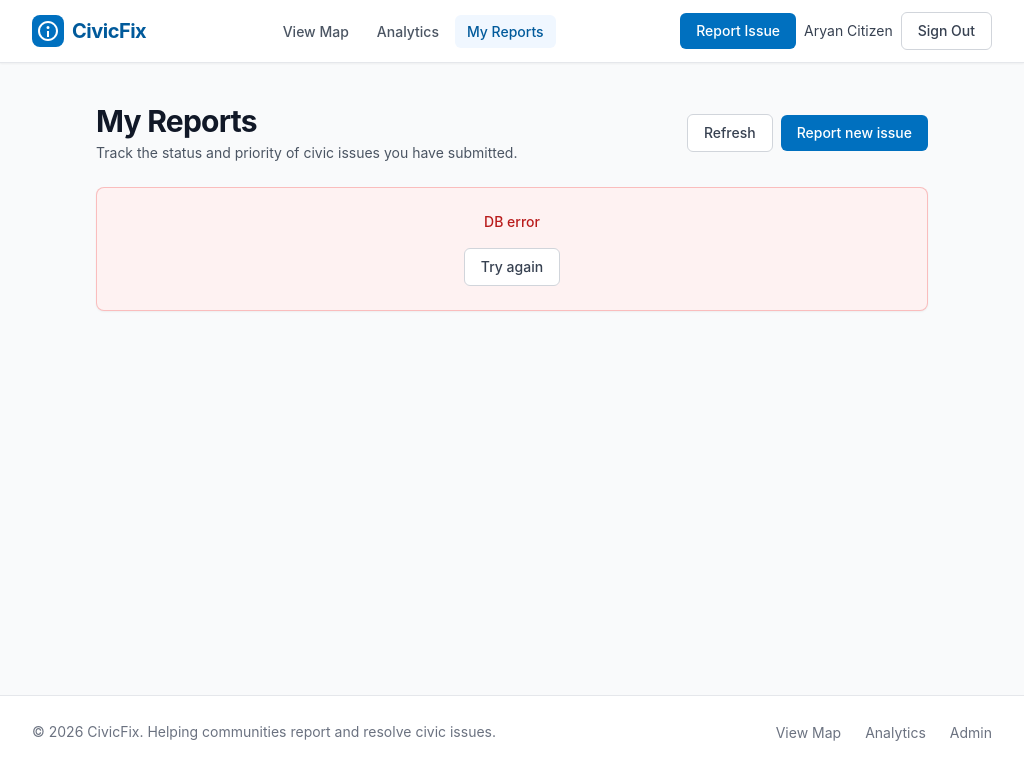
Scenario: MyReportsPage › displays an error state when loading fails and allows retrying
The width and height of the screenshot is (1024, 768).
Expected: the message shows "DB error", [484,213,540,230]
Click the button "Try again" at (512, 267), box [464,248,560,286]
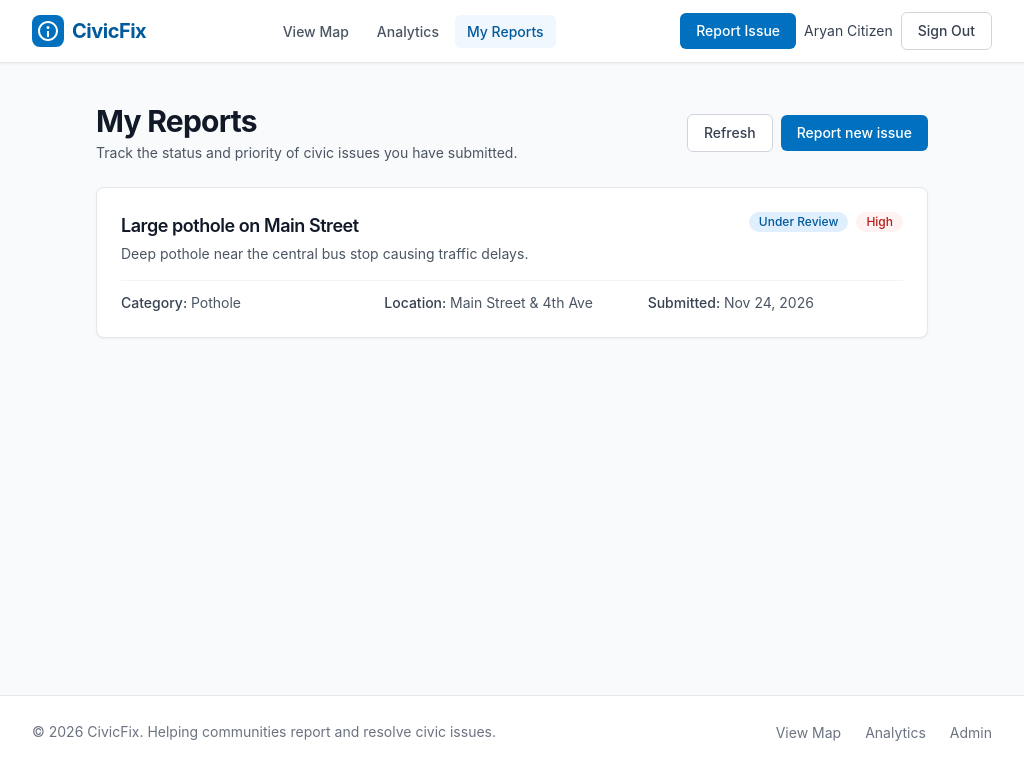
Result: the heading "Large pothole on Main Street" is shown at [121,215,359,236]
